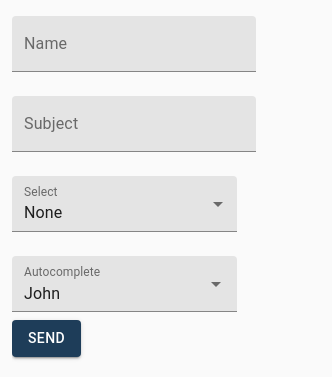
Test: App component › Select › options value
The image size is (332, 377).
Click the button named "Select None".
click(43, 212)  # box [24,203,62,222]
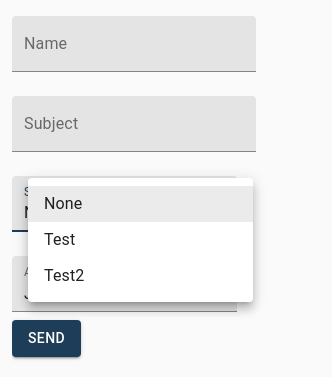
Check: the option "Test" is shown, box [44,230,75,249]
Check: the number of options is 3, box [28,186,253,222]; [44,230,75,249]; [44,266,84,285]
